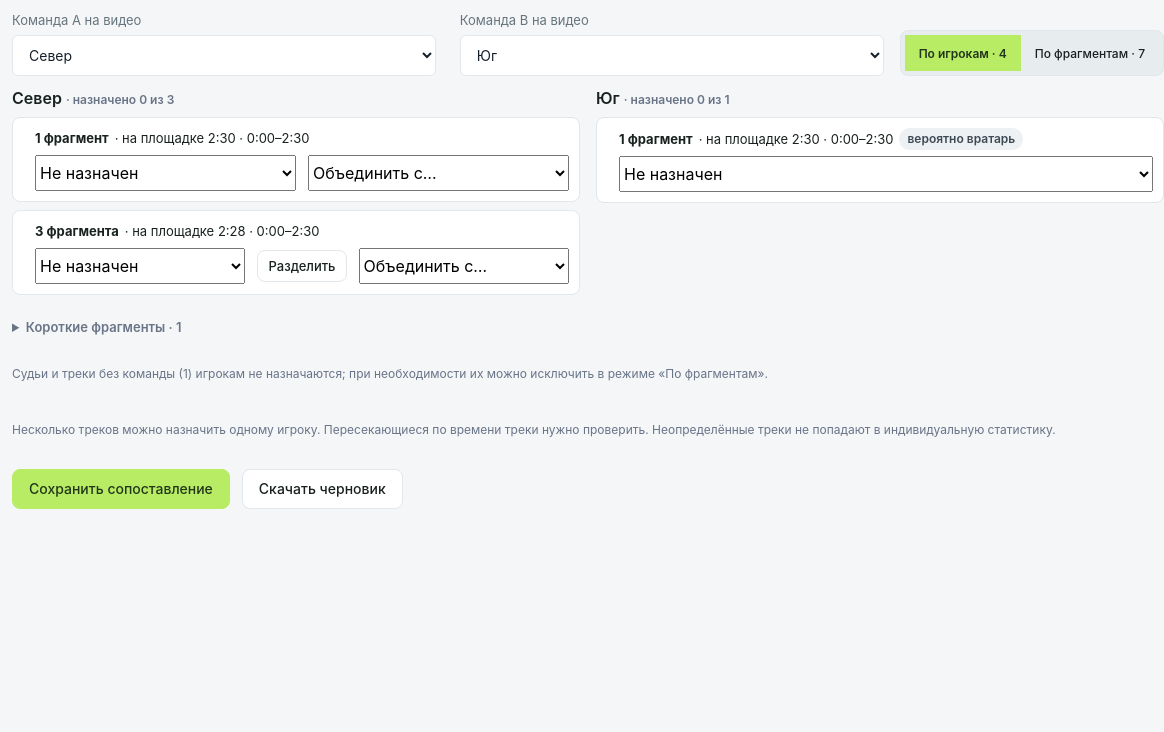
it: player candidates › splits a wrong chain and merges pieces that are never on the pitch together
Click the button "Разделить". click: click(302, 266)
box: [258, 250, 346, 282]
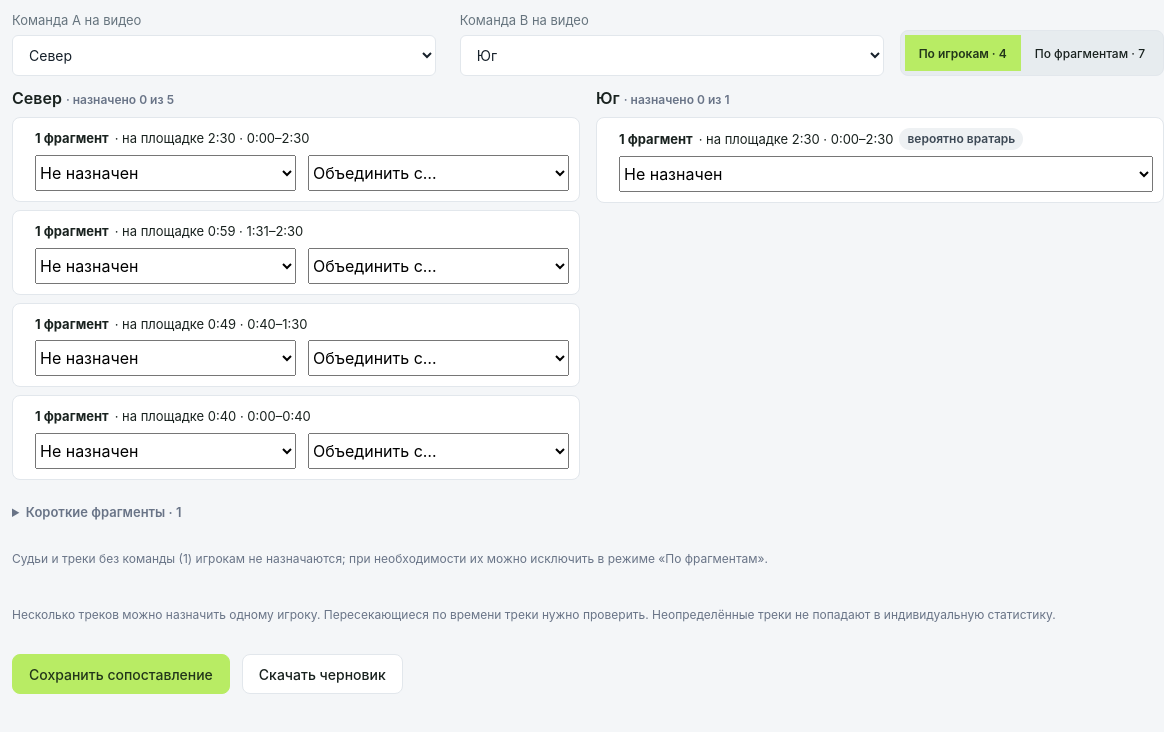
Expected: the button "По игрокам · 4" is shown, [905, 35, 1021, 71]
Result: the text "3 фрагмента" is gone
Select "0:40–1:30 · 1 фрагм." in the dropdown named "Объединить кандидата 3". click: (438, 266)
box: [308, 248, 569, 284]
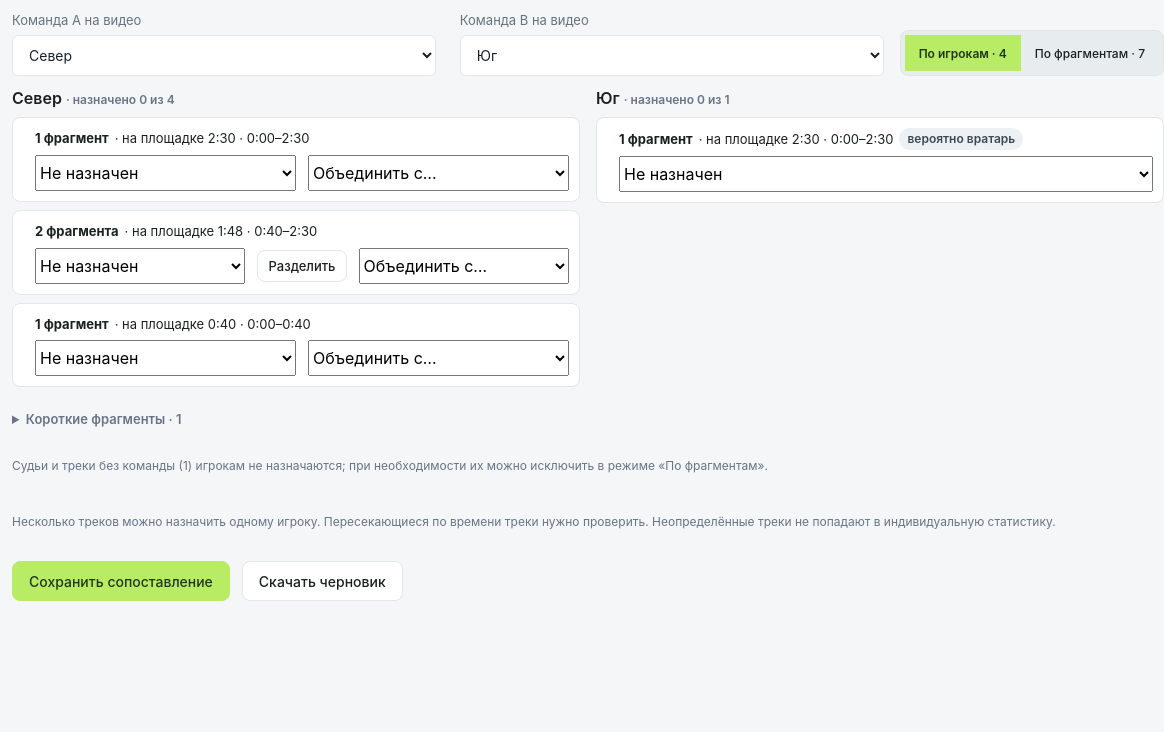
Result: the text "2 фрагмента" is shown at [35, 221, 119, 242]
